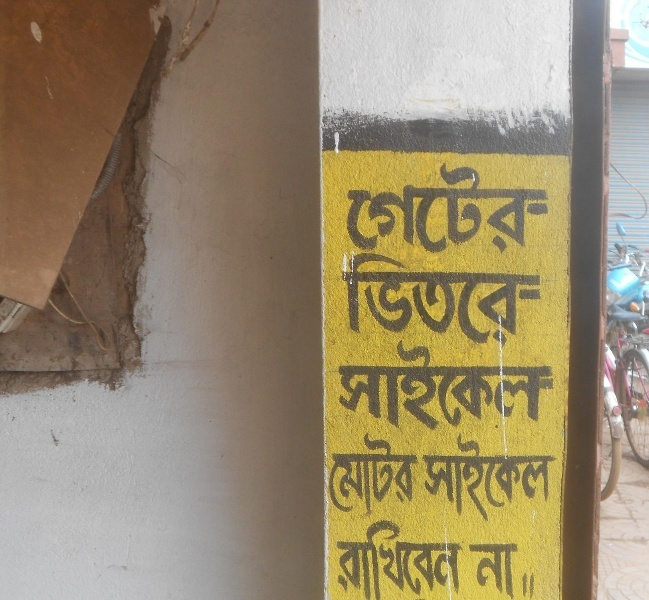text: (353, 251, 368, 347), (369, 251, 384, 347), (385, 251, 400, 347), (401, 251, 416, 347), (417, 251, 432, 347), (433, 251, 448, 347), (449, 251, 464, 347), (465, 251, 480, 347), (481, 251, 496, 347), (497, 251, 512, 347), (513, 251, 528, 347), (353, 161, 368, 254), (369, 161, 384, 254), (385, 161, 400, 254), (401, 161, 416, 254), (417, 161, 432, 254), (433, 161, 448, 254), (449, 161, 464, 254), (465, 161, 480, 254), (481, 161, 496, 254), (497, 161, 512, 254), (513, 161, 528, 254), (529, 161, 544, 254), (433, 430, 448, 523), (449, 430, 464, 523), (465, 430, 480, 523), (481, 430, 496, 523), (497, 430, 512, 523), (513, 430, 528, 523), (529, 430, 544, 523), (337, 340, 352, 430), (353, 340, 368, 430), (369, 340, 384, 430), (385, 340, 400, 430), (401, 340, 416, 430), (417, 340, 432, 430), (433, 340, 448, 430), (449, 340, 464, 430), (465, 340, 480, 430), (481, 340, 496, 430), (497, 340, 512, 430), (513, 340, 528, 430), (529, 340, 544, 430), (545, 430, 559, 523), (337, 432, 352, 515), (353, 432, 368, 515), (369, 432, 384, 515), (385, 432, 400, 515), (401, 432, 416, 515), (337, 518, 352, 600), (353, 518, 368, 600), (369, 518, 384, 600), (385, 518, 400, 600), (401, 518, 416, 600), (417, 518, 432, 600), (433, 518, 448, 600), (449, 518, 464, 600), (420, 430, 432, 523), (341, 251, 352, 347), (529, 251, 540, 347), (545, 340, 555, 430), (481, 543, 496, 600), (497, 543, 512, 600), (327, 432, 336, 515), (344, 161, 352, 254), (467, 543, 480, 600), (545, 161, 550, 254), (513, 543, 518, 600), (417, 432, 419, 515), (335, 340, 336, 430), (465, 518, 466, 600)
